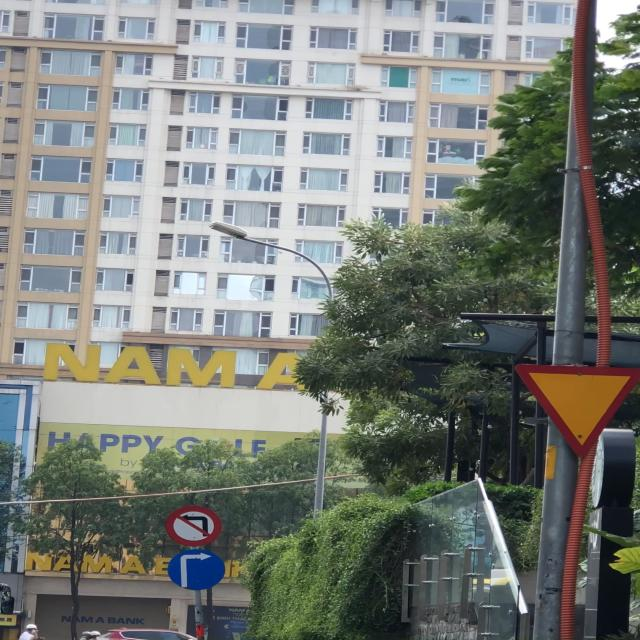Bien bao cam re trai: (161, 501, 227, 548)
Bien bao giao nhau voi duong uu tien: (514, 360, 638, 460)
Bien bao huong di phai theo: (166, 548, 230, 596)
